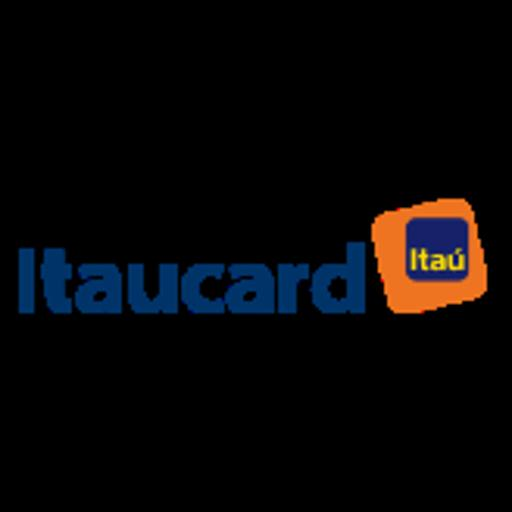Itau Unibanco S-A: (0, 180, 512, 332)
